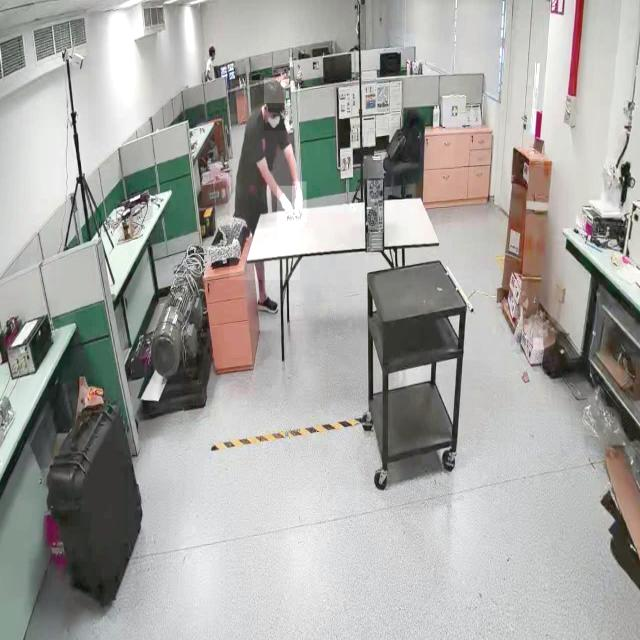face_mask: (264, 108, 286, 130)
hand_glove: (276, 186, 296, 226), (292, 181, 306, 223)
head_nohelmet: (264, 77, 286, 104), (210, 44, 216, 50)
person: (229, 80, 300, 281)
shoes: (256, 291, 280, 317)
